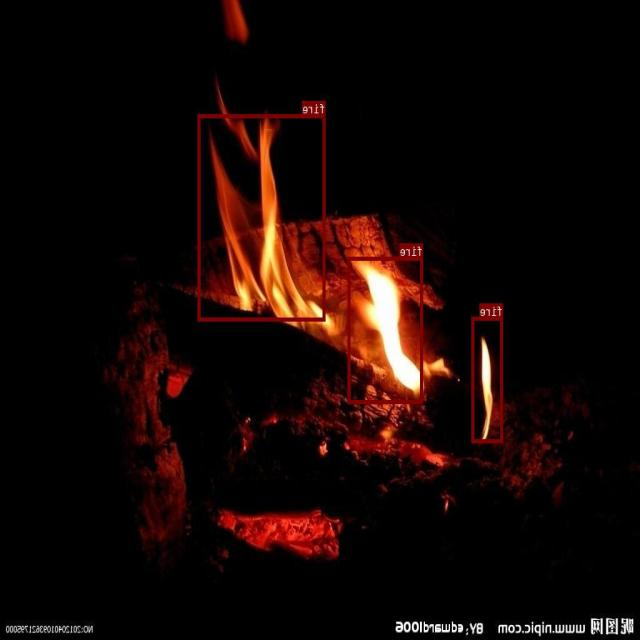fire: (199, 114, 326, 320), (348, 256, 424, 402), (472, 316, 503, 442)
